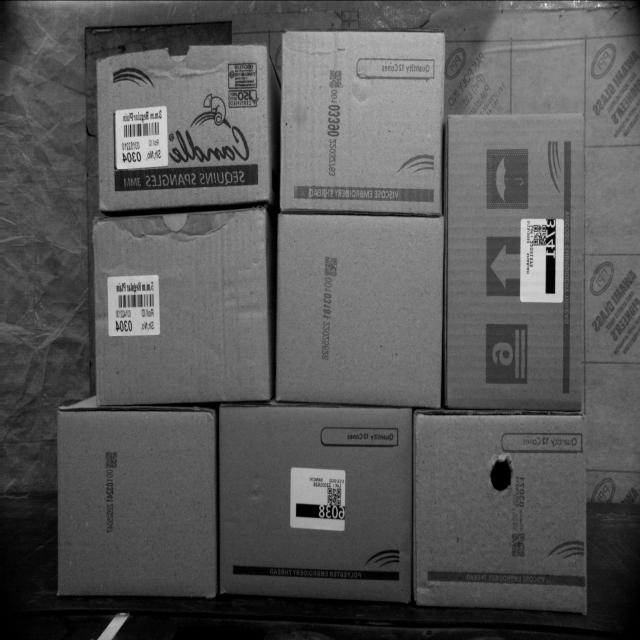cardboxes: (443, 112, 582, 415), (412, 415, 590, 621), (216, 409, 410, 598), (90, 209, 271, 403), (273, 212, 448, 408), (275, 30, 446, 209), (57, 414, 216, 598), (98, 42, 266, 214)
